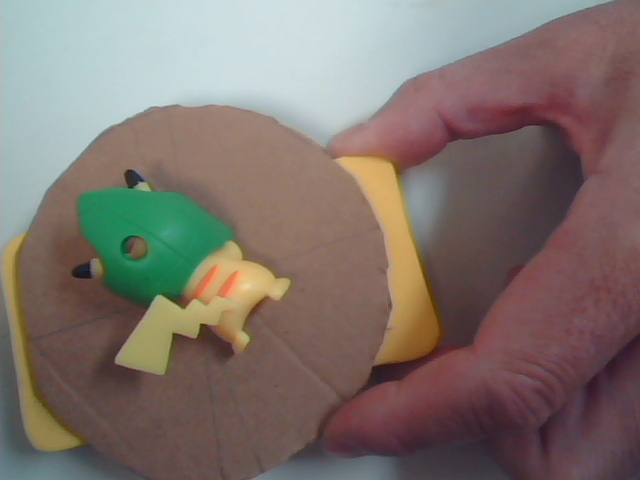pikachu: (59, 171, 312, 424)
